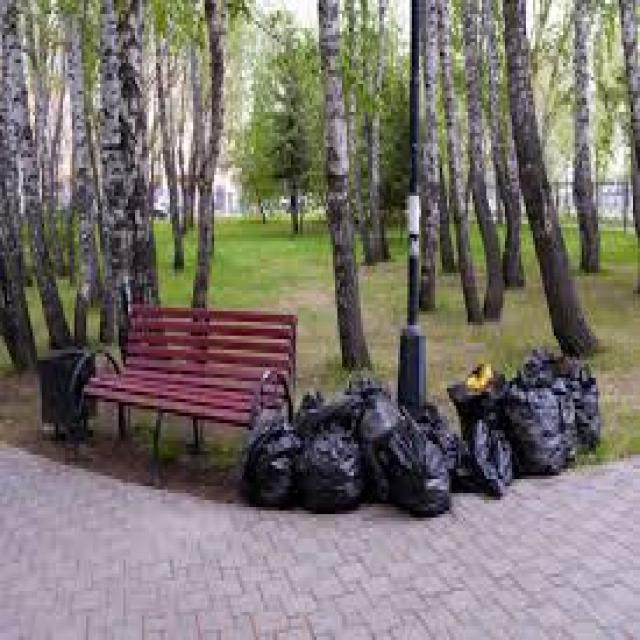garbage: (239, 402, 456, 500), (452, 360, 594, 483)
